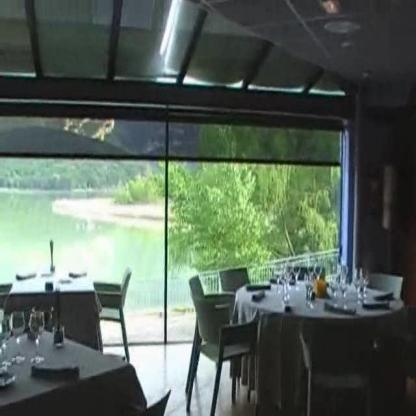other: (70, 239, 114, 284)
